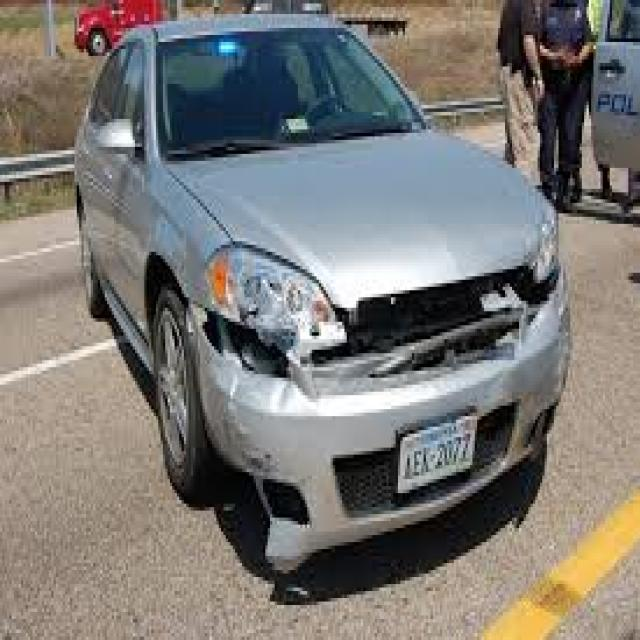minor: (183, 290, 421, 451)
